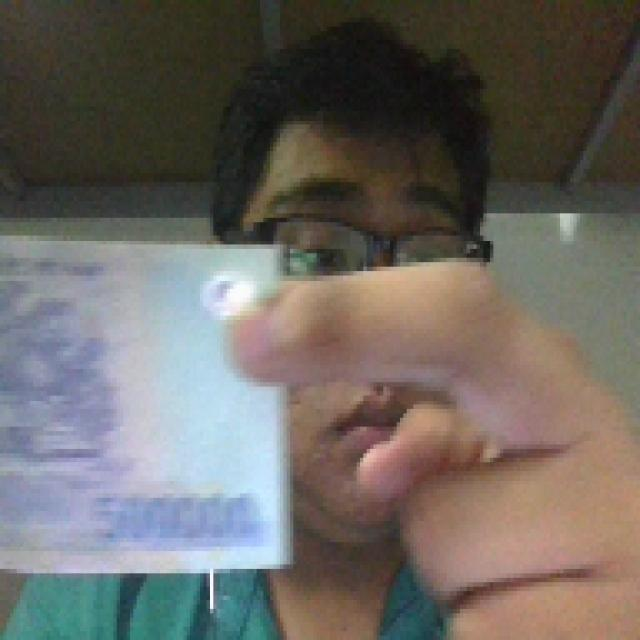500 000 VND: (0, 222, 297, 582)
